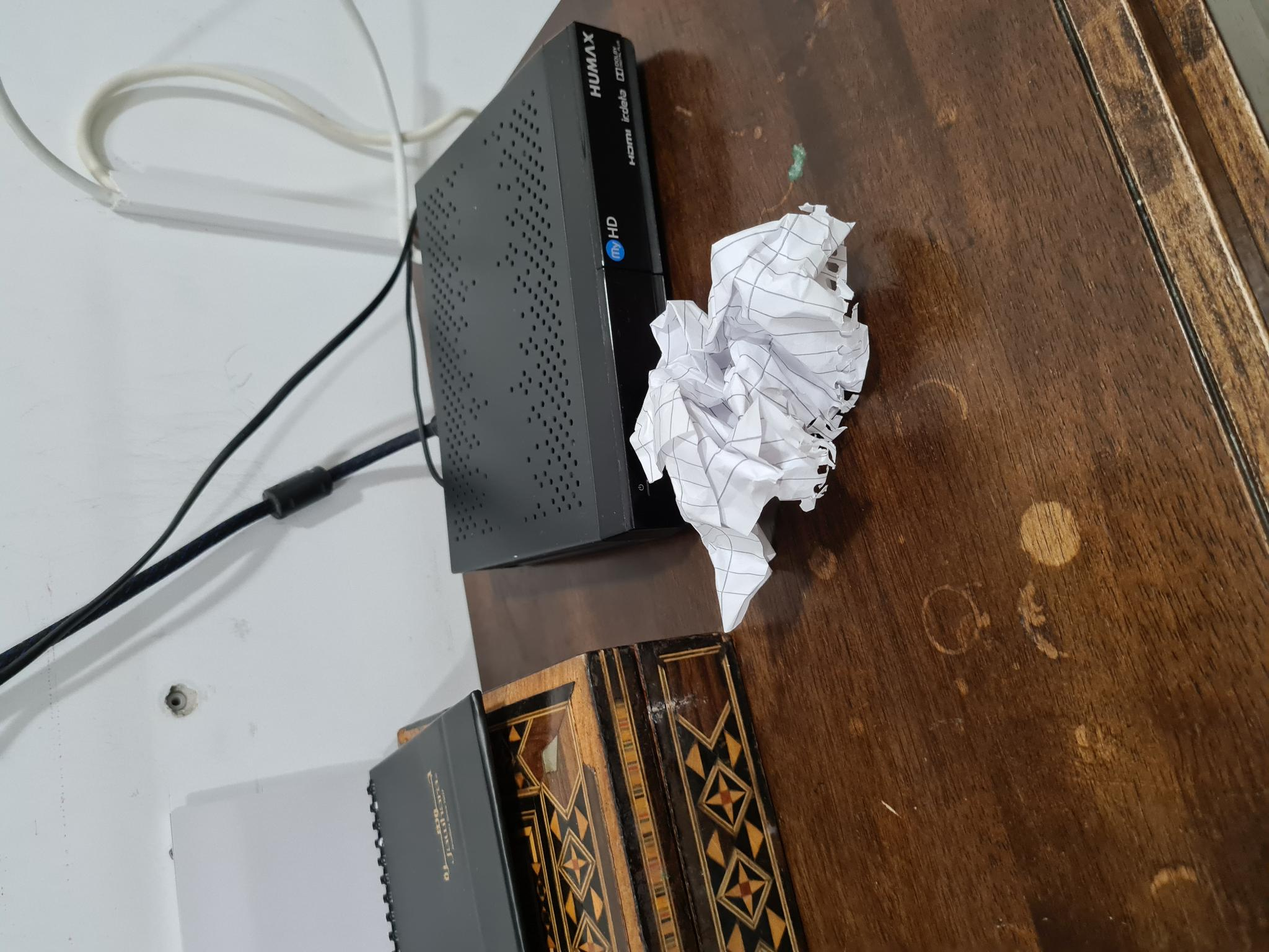Kertas: (309, 615, 750, 872)
